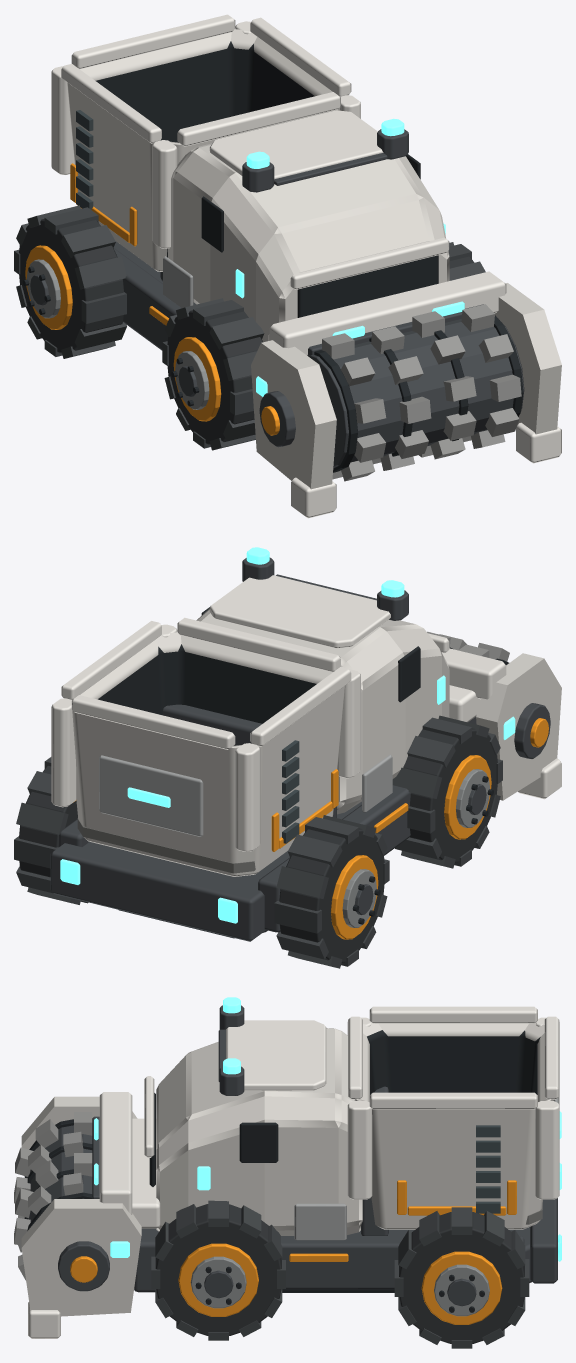
The model's file is ROVER.fbx.
The picture shows the model from 3 angles, top to bottom: view 1: azimuth 30°, elevation 25°; view 2: azimuth 150°, elevation 25°; view 3: azimuth 270°, elevation 25°; orthographic projection. The views are drawn at different scales.
Visible parts, largest first — view 1: RV4_Body_GEO, RV4_Container_GEO, RV4_CrusherDrum_GEO, RV4_CrusherFrame_GEO, RV4_Wheel_RL_GEO, RV4_Wheel_FL_GEO, RV4_Wheel_FR_GEO; view 2: RV4_Container_GEO, RV4_Body_GEO, RV4_Wheel_RL_GEO, RV4_Wheel_FL_GEO, RV4_CrusherFrame_GEO, RV4_Wheel_RR_GEO, RV4_CargoFill_GEO, RV4_CrusherDrum_GEO; view 3: RV4_Body_GEO, RV4_Container_GEO, RV4_CrusherFrame_GEO, RV4_Wheel_RR_GEO, RV4_Wheel_FR_GEO, RV4_CrusherDrum_GEO.
Part boxes in pixels (x1,y1,x2,y2): RV4_Body_GEO: [113, 110, 449, 350]; RV4_Container_GEO: [51, 14, 360, 271]; RV4_CrusherDrum_GEO: [307, 304, 524, 481]; RV4_CrusherFrame_GEO: [251, 271, 561, 518]; RV4_Wheel_RL_GEO: [14, 205, 126, 358]; RV4_Wheel_FL_GEO: [162, 298, 264, 450]; RV4_Wheel_FR_GEO: [448, 242, 485, 280]; RV4_Container_GEO: [51, 617, 360, 876]; RV4_Body_GEO: [50, 547, 480, 941]; RV4_Wheel_RL_GEO: [274, 815, 389, 968]; RV4_Wheel_FL_GEO: [392, 715, 502, 868]; RV4_CrusherFrame_GEO: [442, 648, 561, 800]; RV4_Wheel_RR_GEO: [14, 757, 88, 904]; RV4_CargoFill_GEO: [77, 818, 255, 873]; RV4_CrusherDrum_GEO: [427, 631, 509, 724]; RV4_Body_GEO: [132, 997, 561, 1292]; RV4_Container_GEO: [347, 1006, 561, 1229]; RV4_CrusherFrame_GEO: [21, 1092, 141, 1338]; RV4_Wheel_RR_GEO: [394, 1207, 529, 1348]; RV4_Wheel_FR_GEO: [151, 1200, 285, 1340]; RV4_CrusherDrum_GEO: [14, 1112, 92, 1280].
Size of the model in its own units: 4.35 by 3.37 by 6.67.
